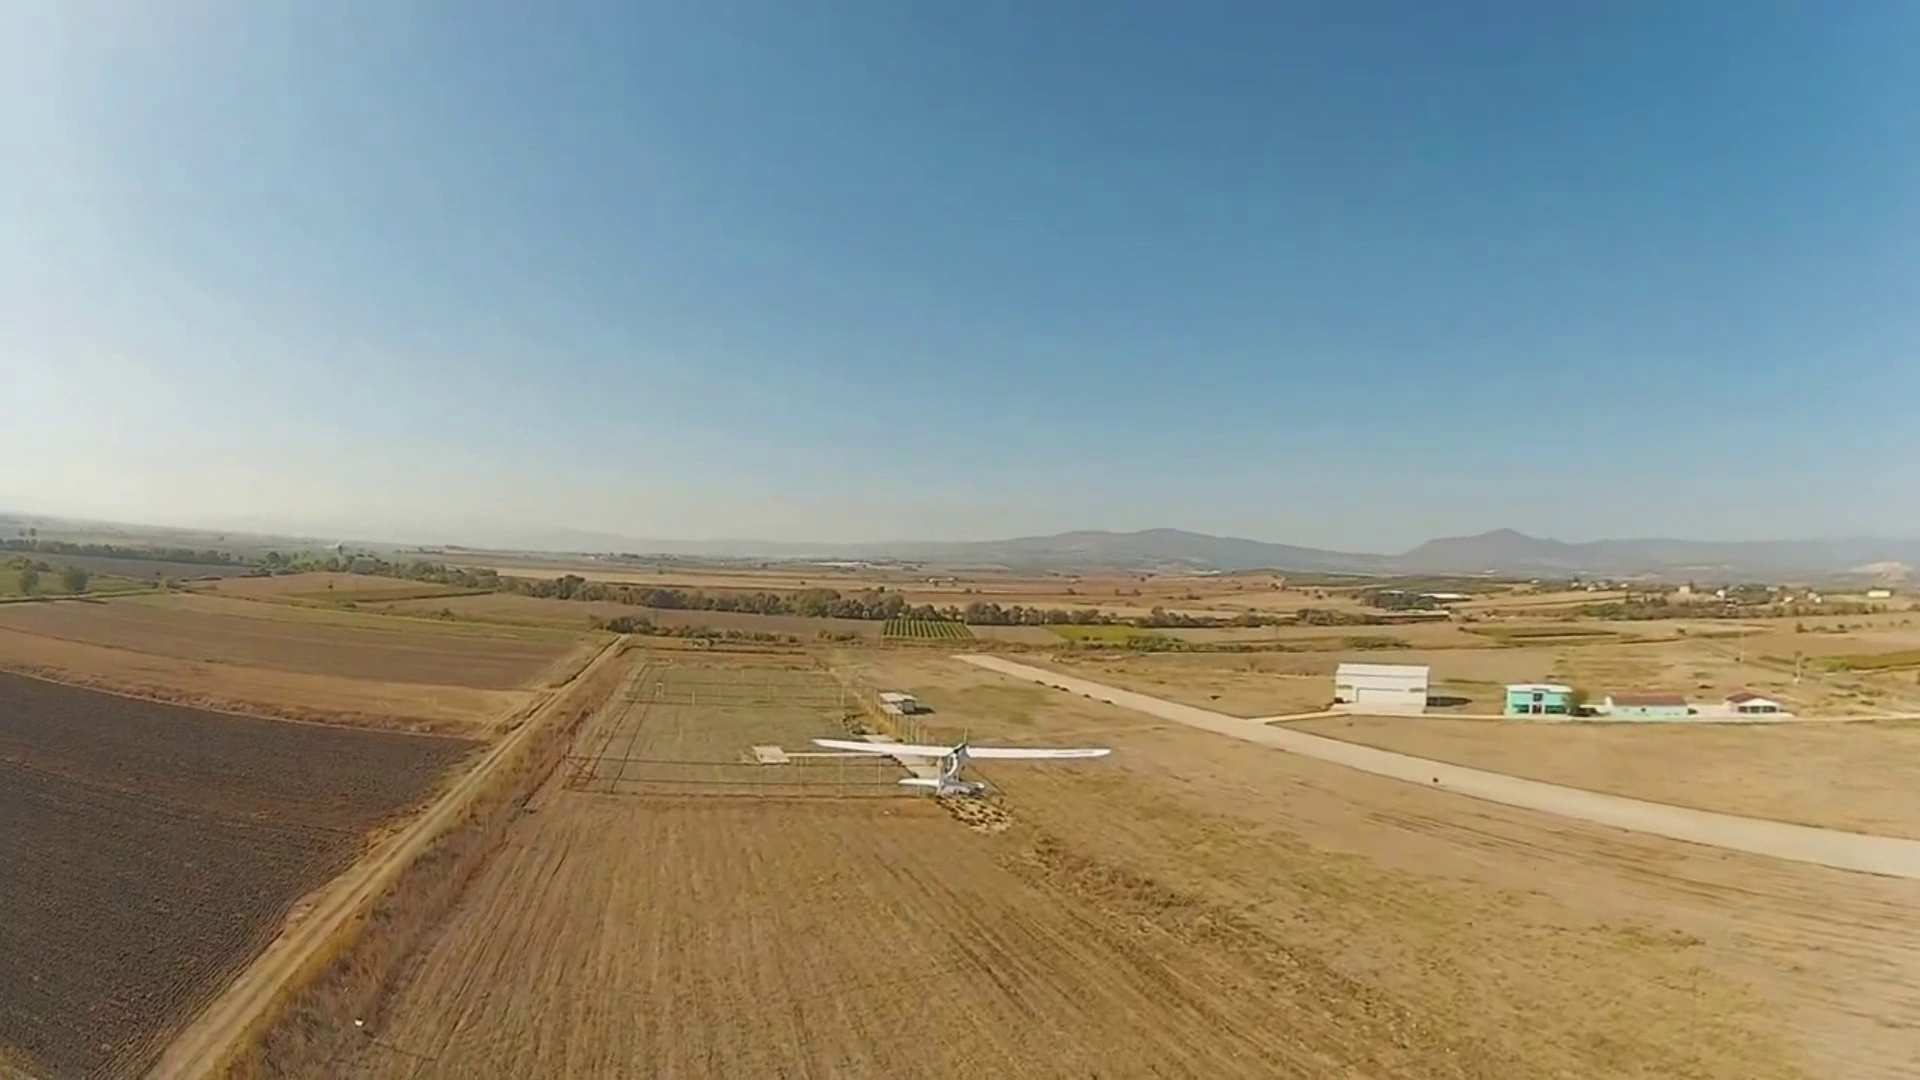airplane: (817, 691, 1116, 813)
